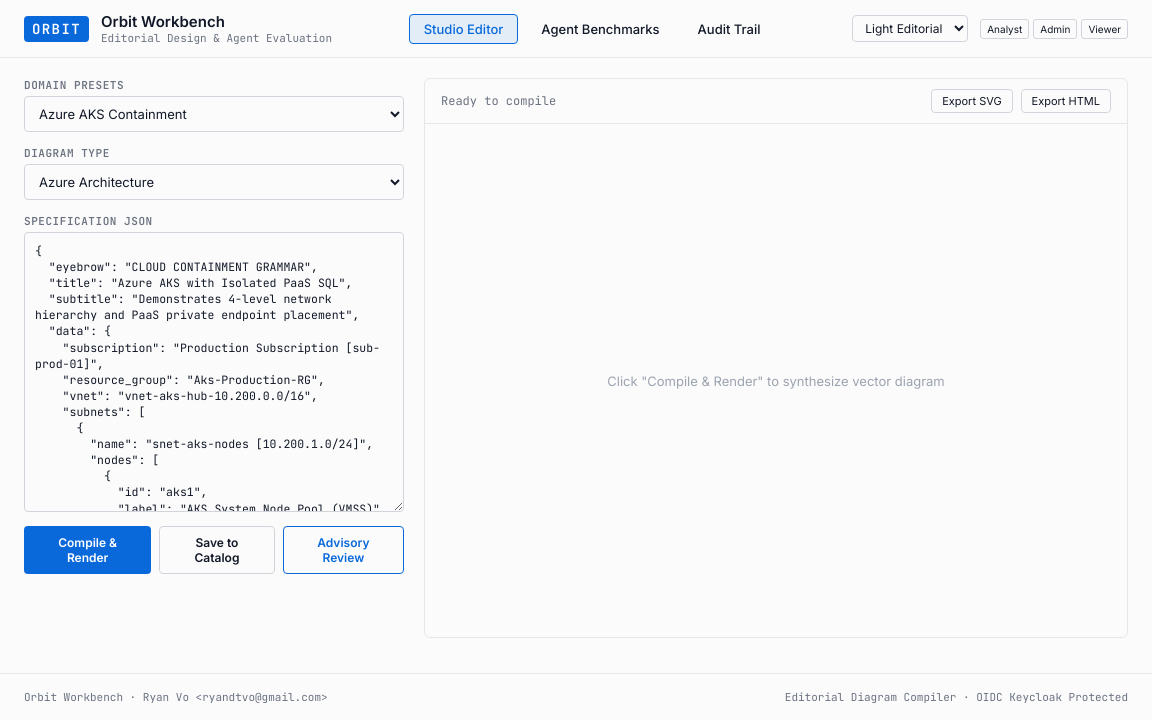
Scenario: Orbit Workbench User Interface › executes agent evaluation benchmark and displays accuracy metrics
Click the button "Agent Benchmarks".
click(600, 28)  # box [526,14,675,44]
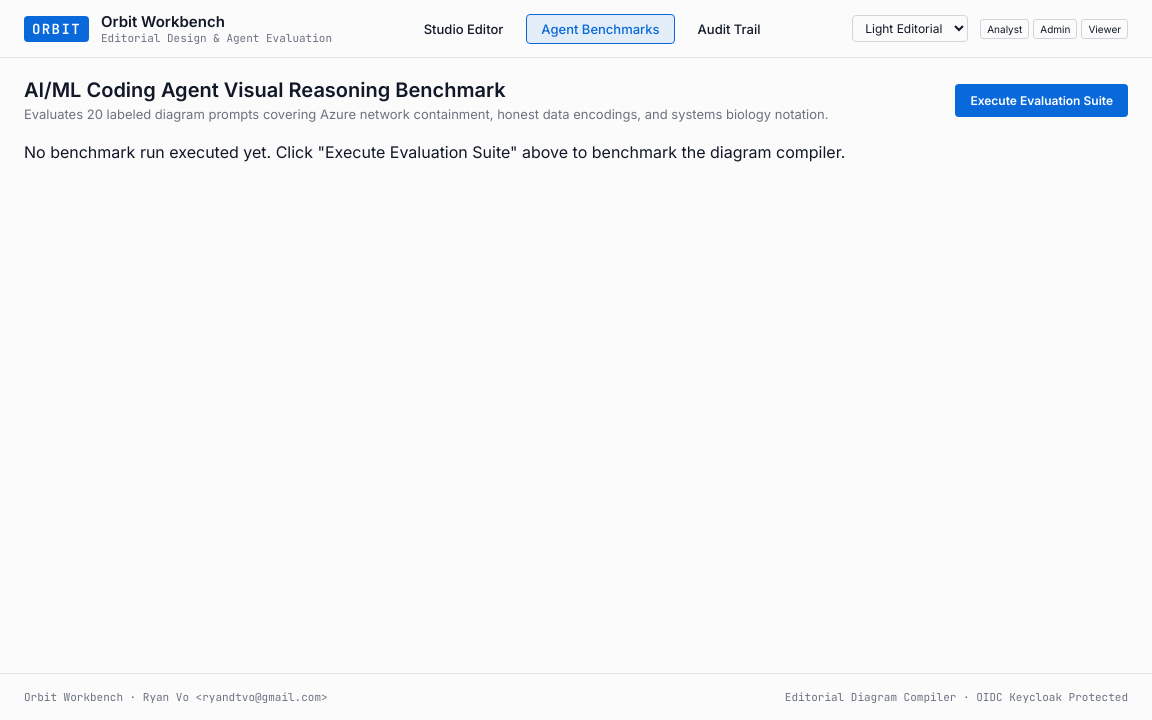
Click the button "Execute Evaluation Suite".
click(1042, 100)  # box [955,84,1128,116]
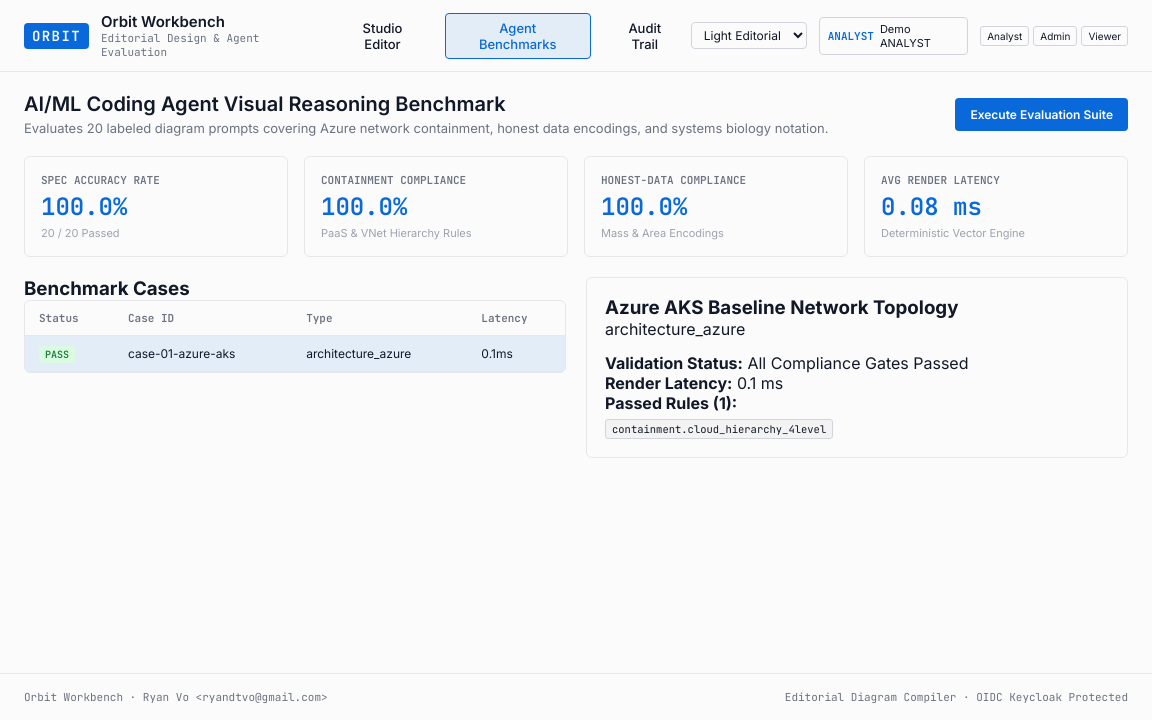
Expected: the text "100.0%" below "Spec Accuracy Rate" is shown, [41,191,127,222]
Expected: the text "20 / 20 Passed" is shown, [41,226,120,240]
Expected: the heading "Azure AKS Baseline Network Topology" is shown, [605,296,958,319]
